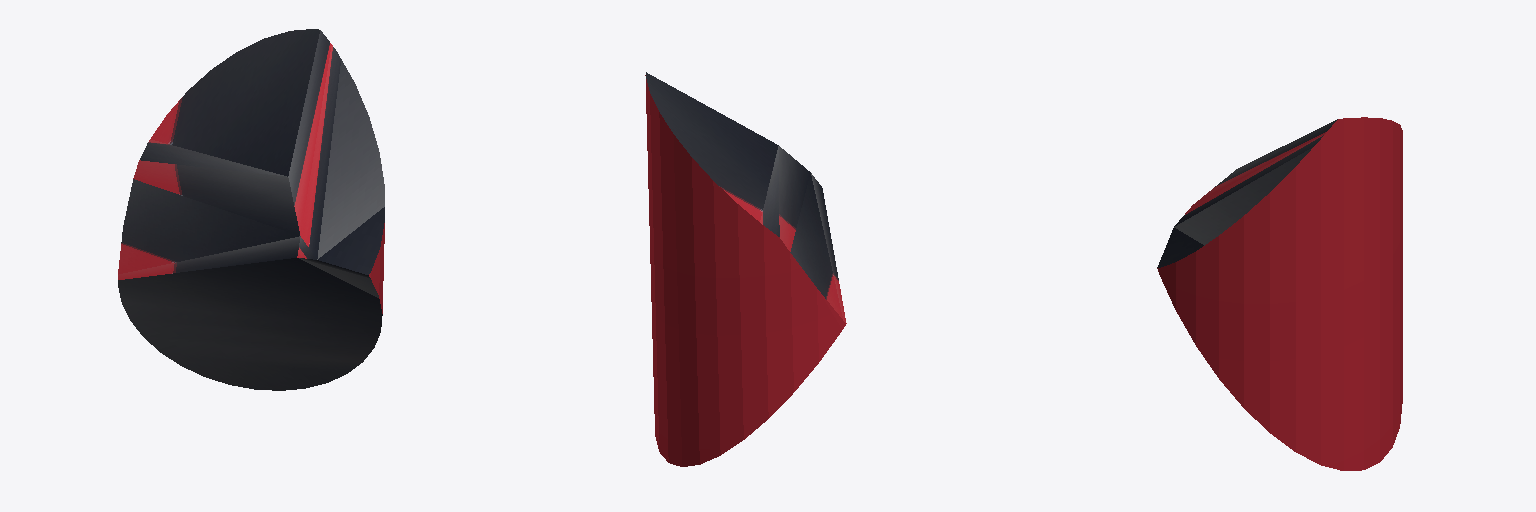
The picture shows the model from 3 angles: view 1: azimuth 30°, elevation 25°; view 2: azimuth 150°, elevation 25°; view 3: azimuth 270°, elevation 25°; orthographic projection.
Visible parts, largest first — view 1: 鳥居.001_cell.046_鳥居.001_cell.028; view 2: 鳥居.001_cell.046_鳥居.001_cell.028; view 3: 鳥居.001_cell.046_鳥居.001_cell.028.
Part boxes in pixels (left/top/right/bottom): 鳥居.001_cell.046_鳥居.001_cell.028: left=118, top=29, right=384, bottom=390; 鳥居.001_cell.046_鳥居.001_cell.028: left=645, top=72, right=846, bottom=466; 鳥居.001_cell.046_鳥居.001_cell.028: left=1157, top=117, right=1402, bottom=470.
Size of the model in its own units: 0.3 by 0.4825 by 0.2946.
Materials: 1 (1 with a texture image).